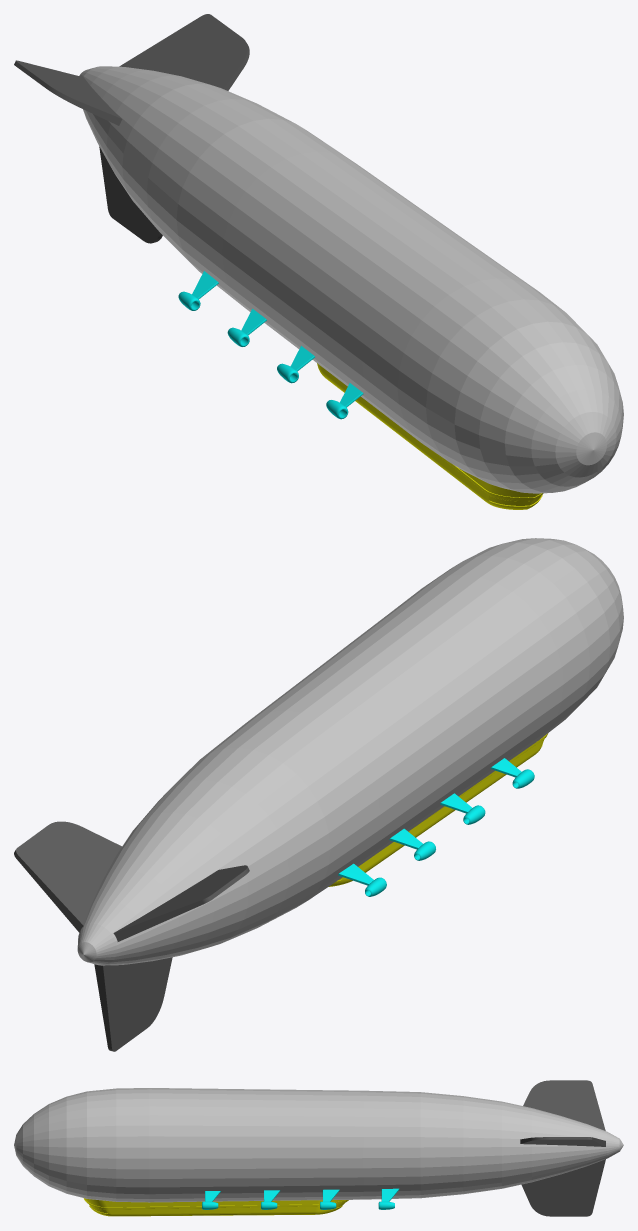
File: zeppelin.fbx
3 renders of one model, top to bottom at view 1: azimuth 30°, elevation 25°; view 2: azimuth 150°, elevation 25°; view 3: azimuth 270°, elevation 25°, orthographic. The views are drawn at different scales.
Visible parts, largest first — view 1: pCylinder1, pCube1 (×3), cabin, engines3; view 2: pCylinder1, pCube1 (×3), cabin, engines3; view 3: pCylinder1, pCube1 (×3), cabin, engines3, engines4, engines5, engines6.
Boxes of the visible parts, x1,y1,x2,y2 form: pCylinder1: (79,66,623,493); pCube1 (×3): (14,14,249,243); cabin: (317,363,543,509); engines3: (178,271,218,310); pCylinder1: (77,538,623,965); pCube1 (×3): (14,821,249,1051); cabin: (329,733,547,886); engines3: (338,863,386,896); pCylinder1: (14,1088,623,1202); pCube1 (×3): (520,1080,605,1216); cabin: (83,1198,348,1216); engines3: (378,1188,399,1209); engines4: (320,1189,339,1209); engines5: (261,1190,280,1209); engines6: (202,1191,220,1209).
Bounding box in the file's own units: 154 × 152 × 683.
